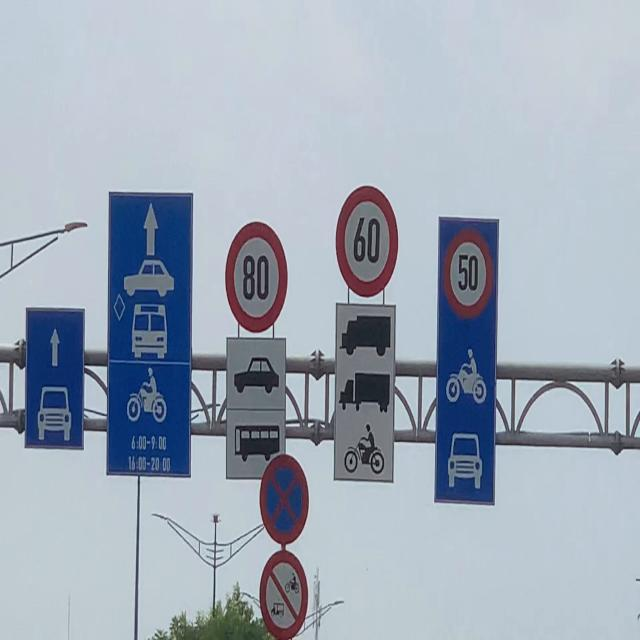Cam con lai: (259, 550, 308, 640)
Cam dung va do: (257, 451, 311, 548)
Toc do toi da: (222, 217, 293, 334), (333, 183, 402, 302), (442, 217, 494, 317)
